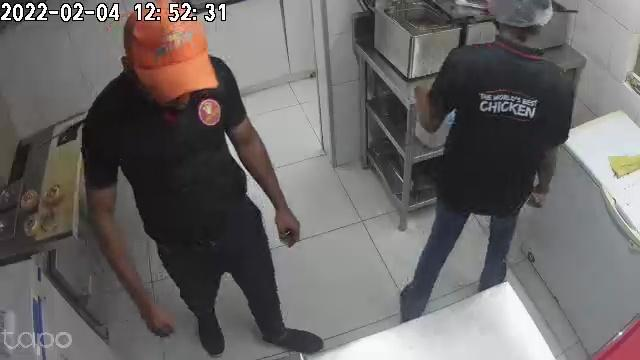no_gloves: (139, 296, 172, 338), (273, 198, 300, 247)
